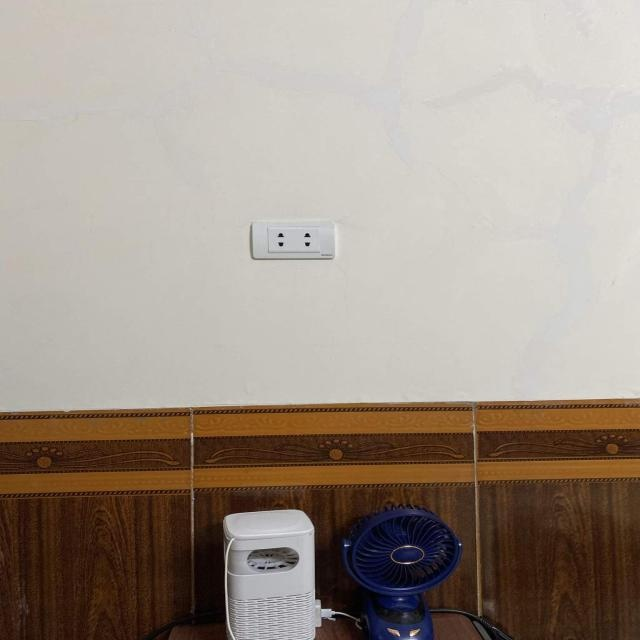outlet: (250, 221, 336, 259)
